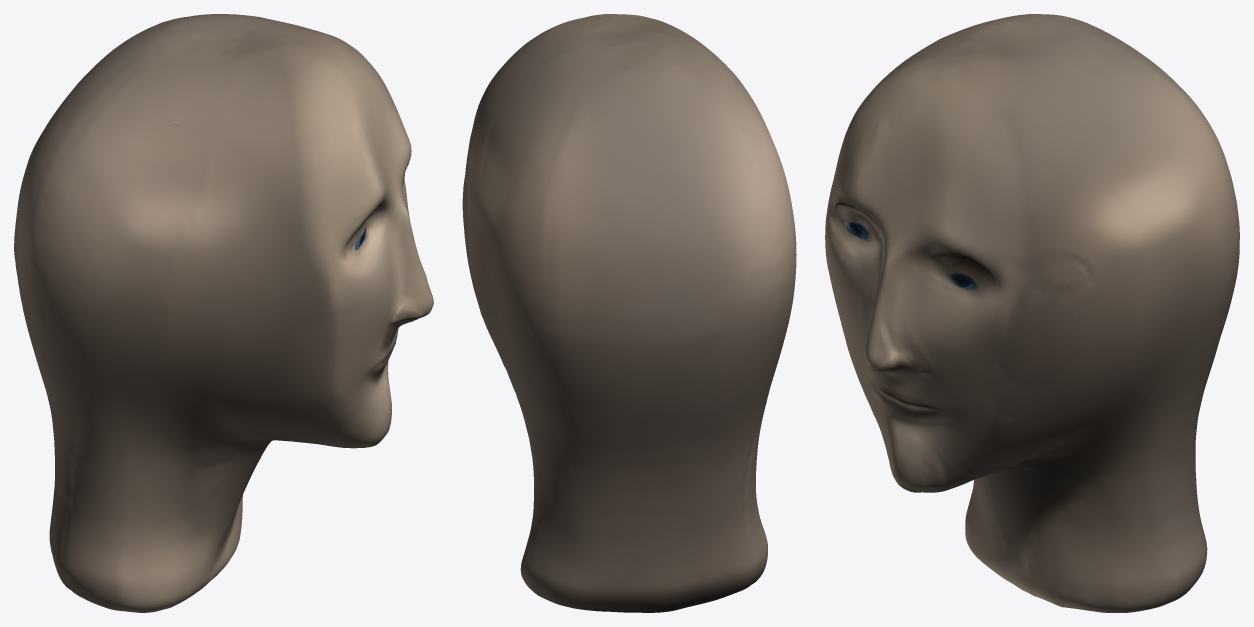
File: mememan.glb
3 renders of one model, left to right at view 1: azimuth 30°, elevation 25°; view 2: azimuth 150°, elevation 25°; view 3: azimuth 270°, elevation 25°, orthographic. The views are drawn at different scales.
Parts seen in each view (by area): view 1: Retopo_model; view 2: Retopo_model; view 3: Retopo_model.
Part boxes in pixels (<box>): Retopo_model: <box>14,14,433,612</box>; Retopo_model: <box>462,14,796,612</box>; Retopo_model: <box>825,14,1239,612</box>.
Bounding box in the file's own units: 0.623 × 0.9407 × 0.6231.
Materials: 1 (1 with a texture image).
